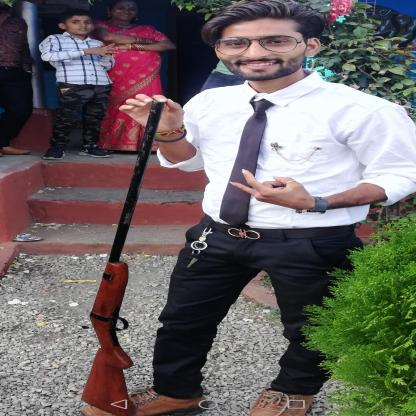rifle: (78, 99, 168, 416)
